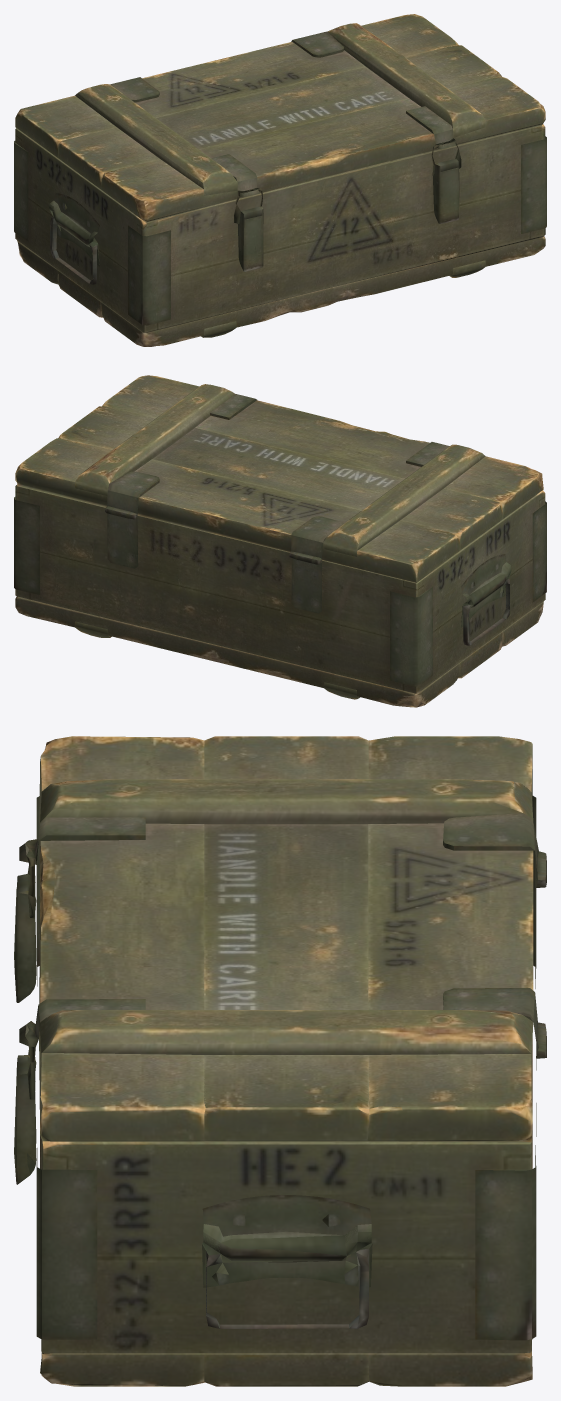
The model's file is real_crate_old.glb.
3 views of the same model, one above another, from view 1: azimuth 30°, elevation 25°; view 2: azimuth 150°, elevation 25°; view 3: azimuth 270°, elevation 25° (orthographic). The views are drawn at different scales.
Parts seen in each view (by area): view 1: real_crate_old; view 2: real_crate_old; view 3: real_crate_old.
Boxes of the visible parts, x1,y1,x2,y2 form: real_crate_old: (14,14,546,346); real_crate_old: (14,375,546,707); real_crate_old: (14,736,546,1386).
Size of the model in its own units: 0.8031 by 0.3009 by 0.4652.
1 material, 1 textured.
